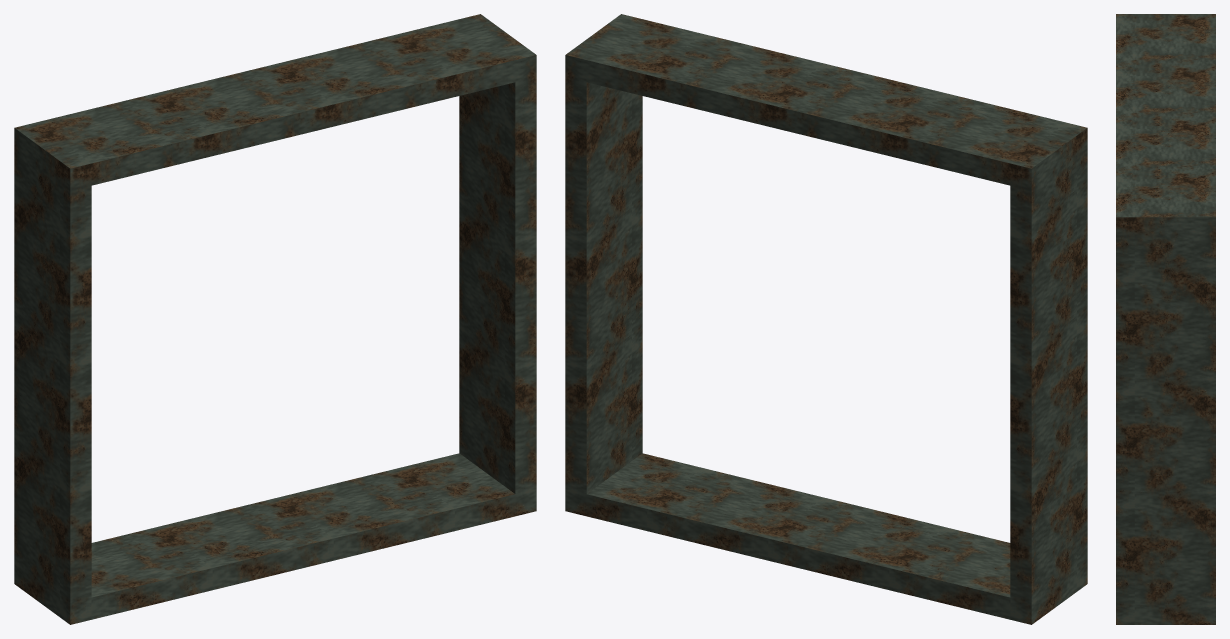
File: SM_WindowFrame.fbx
The picture shows the model from 3 angles, left to right: view 1: azimuth 30°, elevation 25°; view 2: azimuth 150°, elevation 25°; view 3: azimuth 270°, elevation 25°; orthographic projection. The views are drawn at different scales.
Visible parts, largest first — view 1: SM_WindowFrame; view 2: SM_WindowFrame; view 3: SM_WindowFrame.
Boxes of the visible parts, x1,y1,x2,y2 form: SM_WindowFrame: (14, 14, 536, 624); SM_WindowFrame: (565, 14, 1087, 624); SM_WindowFrame: (1116, 14, 1215, 624).
Bounding box in the file's own units: 1.54 × 1.44 × 0.32.
